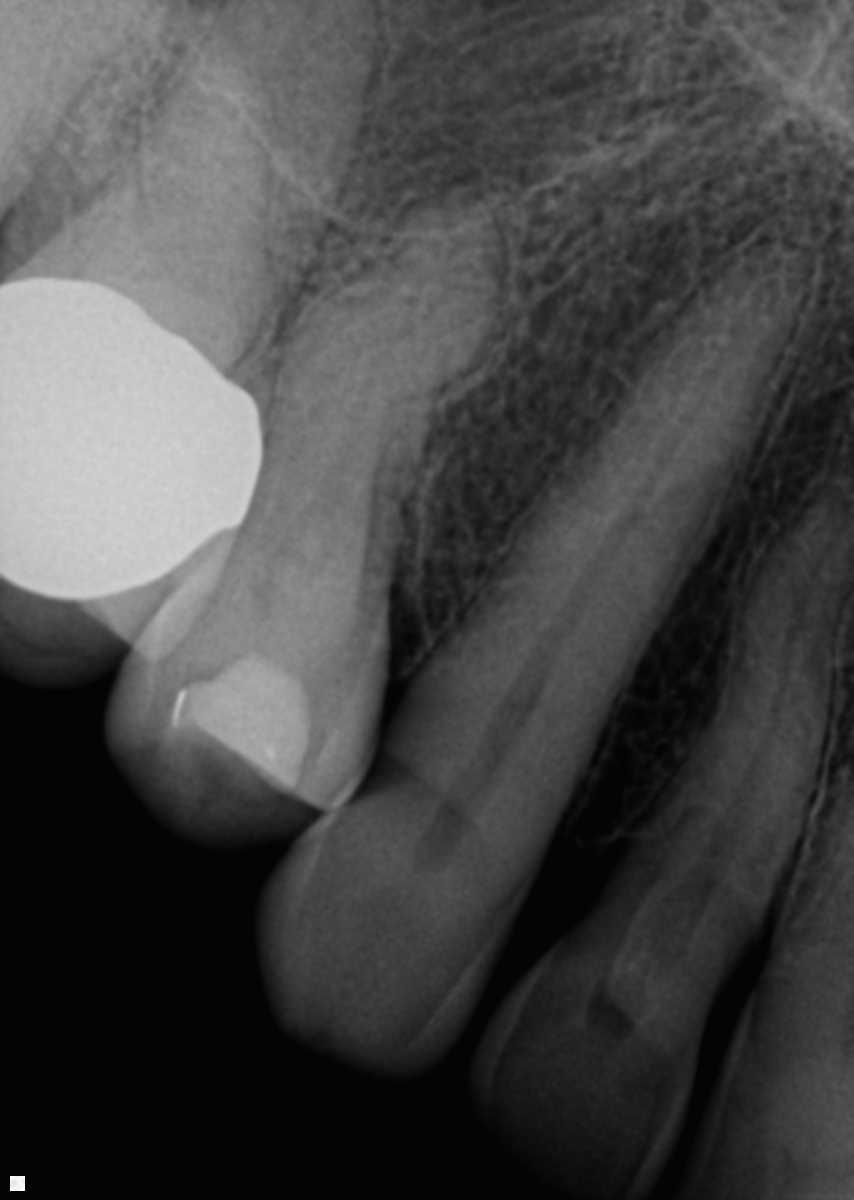Main Canal: (454, 293, 766, 798), (700, 507, 853, 871)
Main Root: (389, 230, 816, 855), (40, 0, 392, 422), (226, 168, 512, 607), (641, 481, 854, 892)
